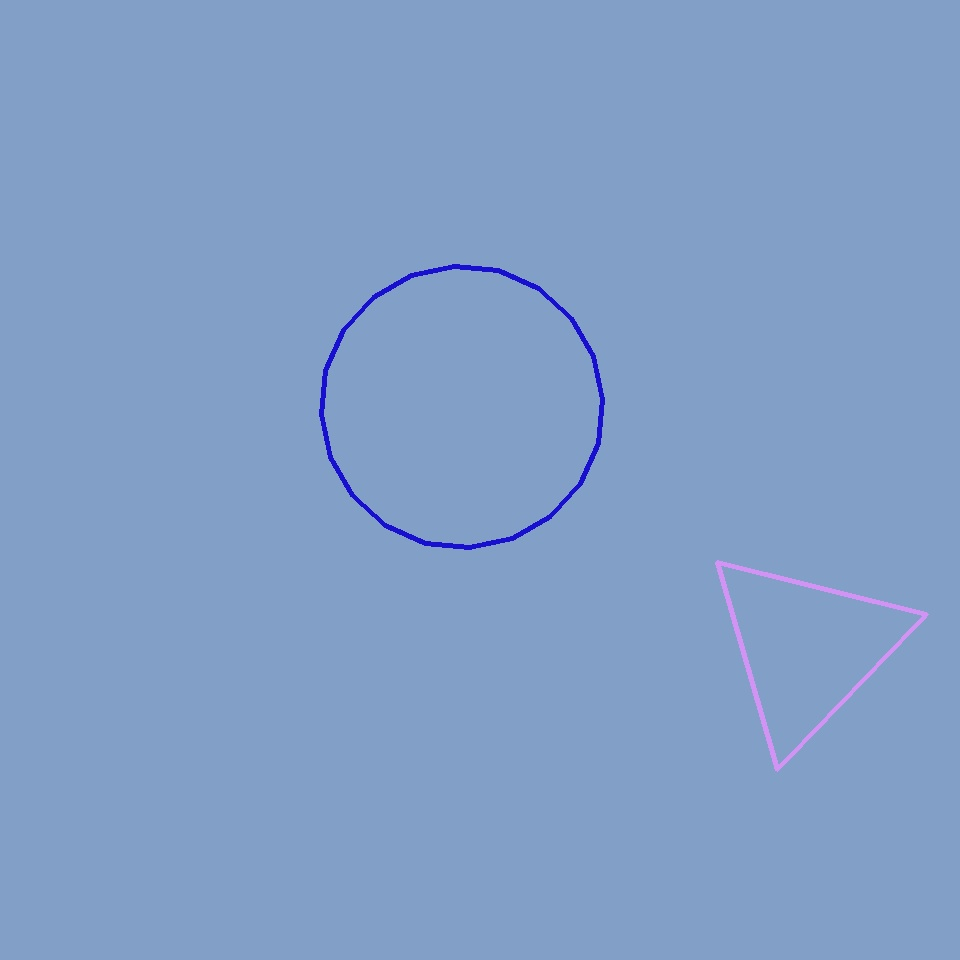circle: (702, 546, 912, 752)
triangle: (322, 266, 603, 548)
